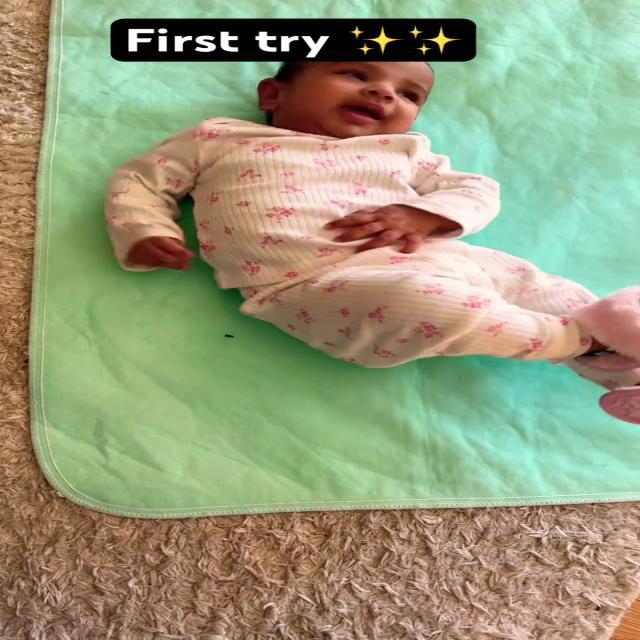baby: (94, 34, 640, 413)
